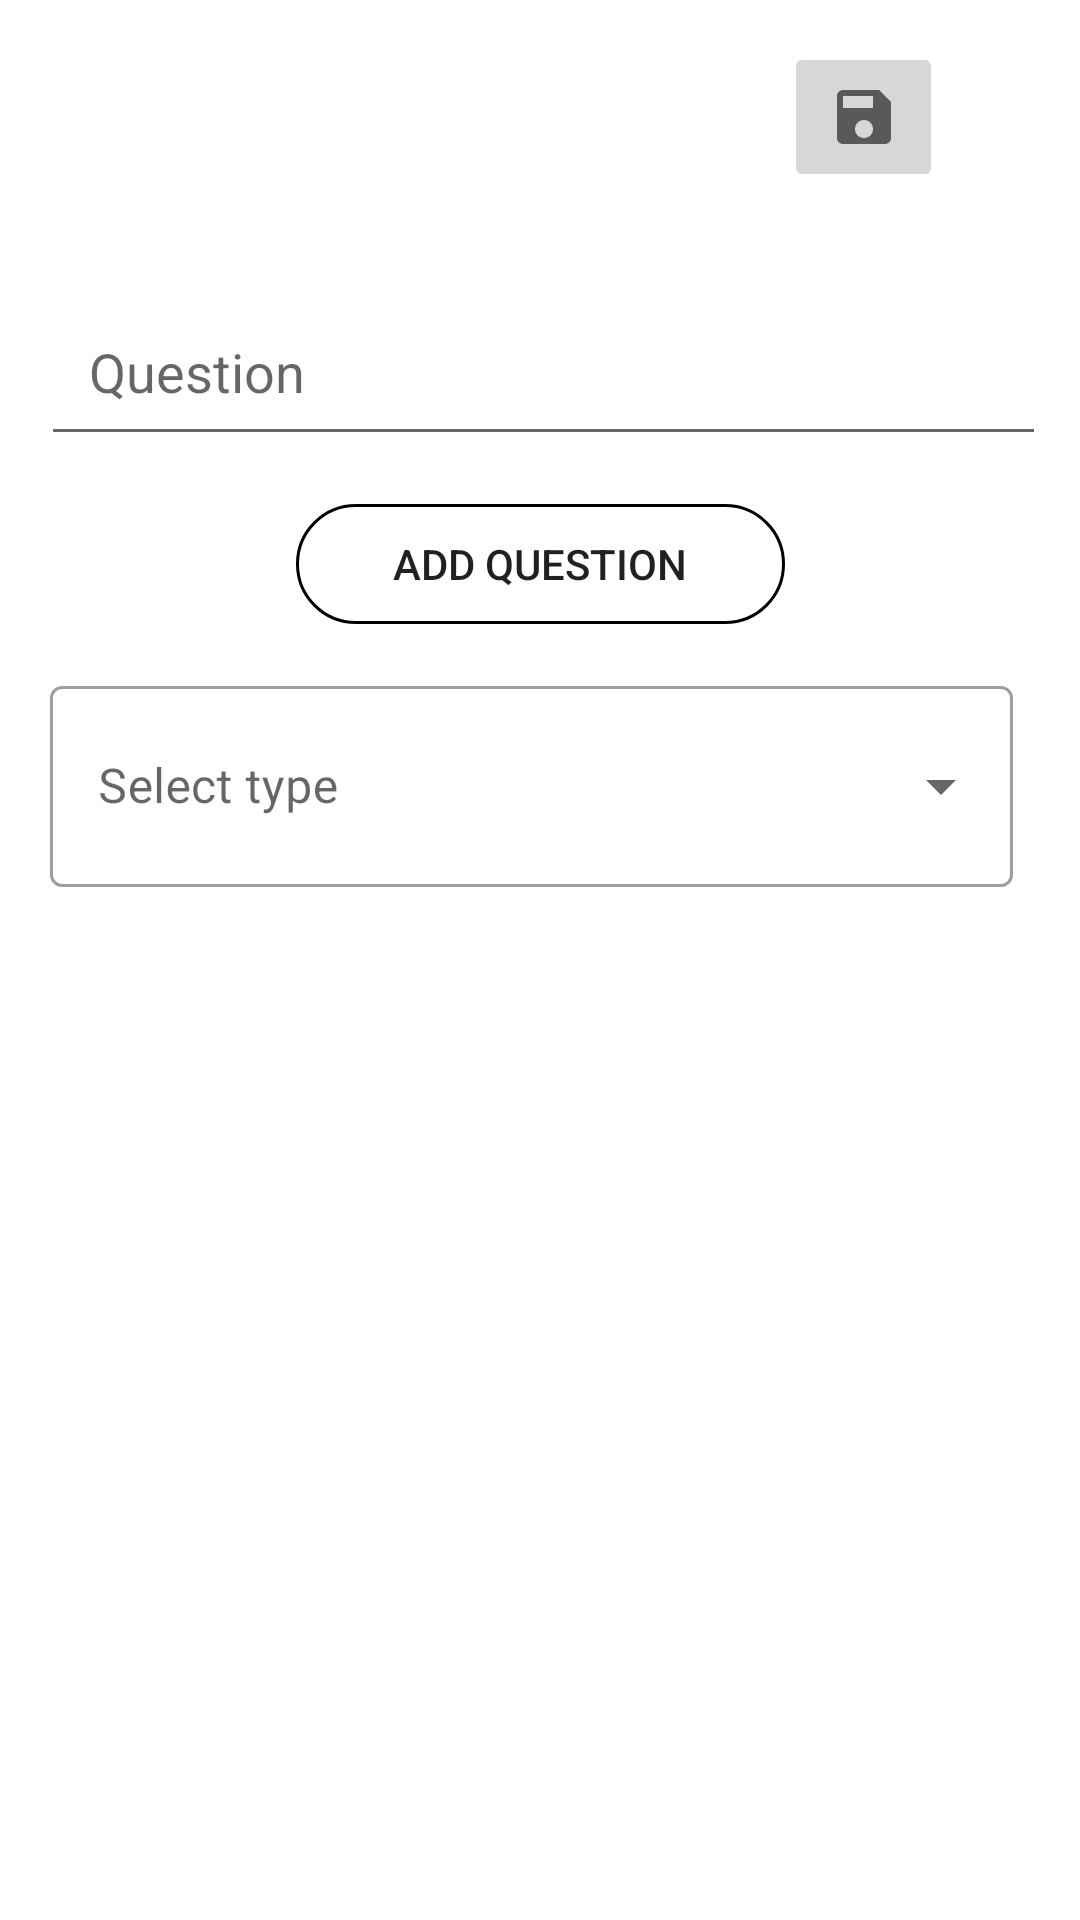

Icon bounding boxes for this 1080 × 1920 phone screenshot, format (x1, y1, x2, y2):
save: (796, 60, 931, 174)
